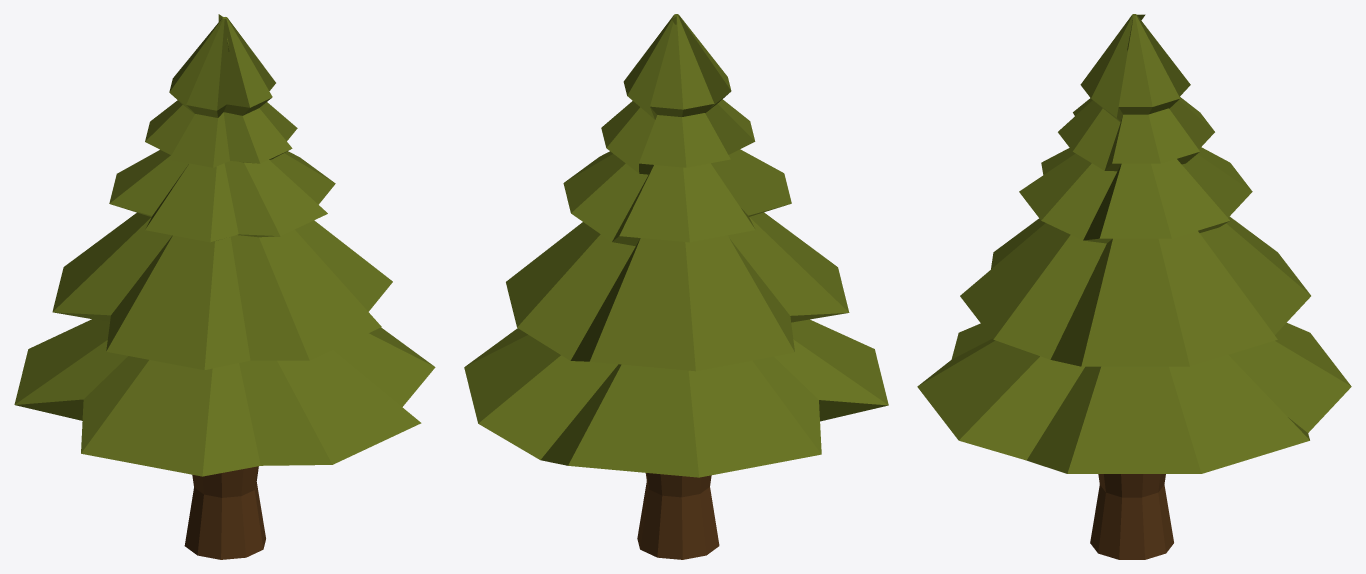
File: Tree_Pine.fbx
3 renders of one model, left to right at view 1: azimuth 30°, elevation 25°; view 2: azimuth 150°, elevation 25°; view 3: azimuth 270°, elevation 25°, orthographic.
Parts seen in each view (by area): view 1: Cylinder, Cylinder.001; view 2: Cylinder, Cylinder.001; view 3: Cylinder, Cylinder.001.
Part boxes in pixels (left/top/right/bottom): Cylinder: left=14, top=14, right=435, bottom=476; Cylinder.001: left=184, top=466, right=265, bottom=559; Cylinder: left=464, top=14, right=888, bottom=477; Cylinder.001: left=637, top=473, right=719, bottom=559; Cylinder: left=917, top=14, right=1351, bottom=473; Cylinder.001: left=1090, top=474, right=1173, bottom=559.
Size of the model in its own units: 334 by 472 by 351.
